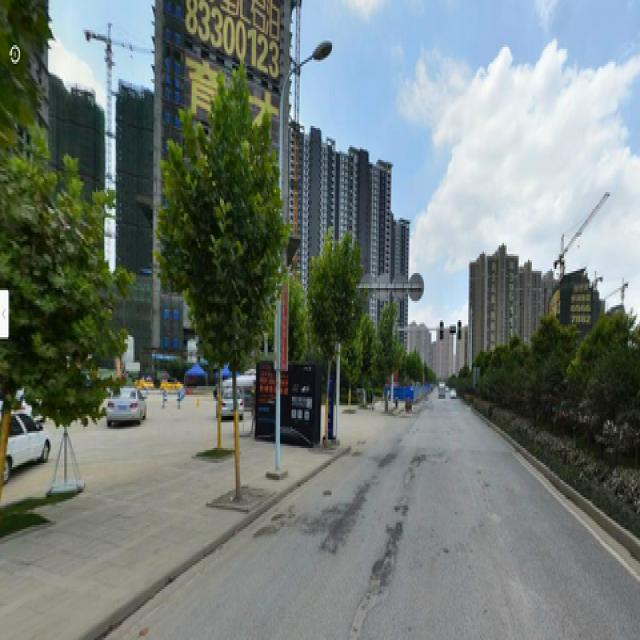meta: (174, 98, 282, 493)
